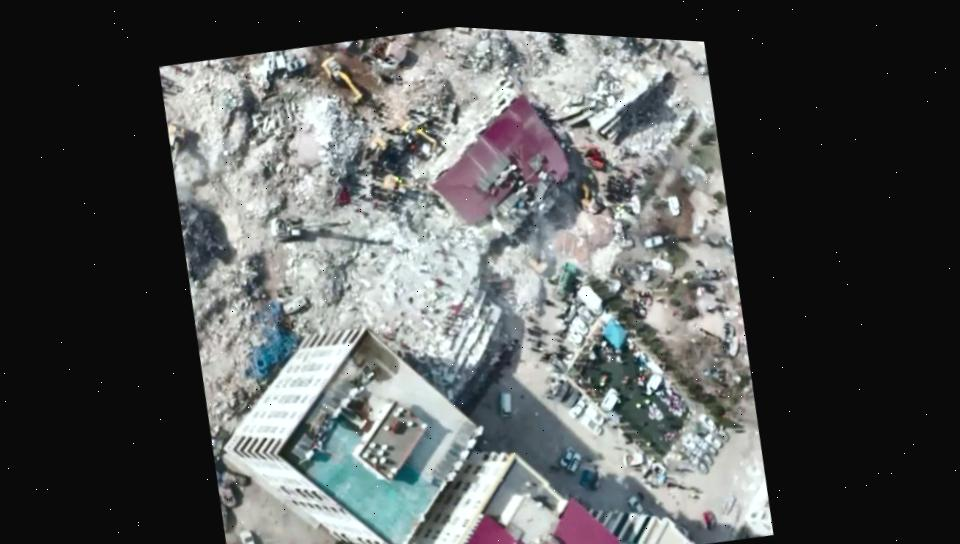kapali: (158, 47, 541, 431)
